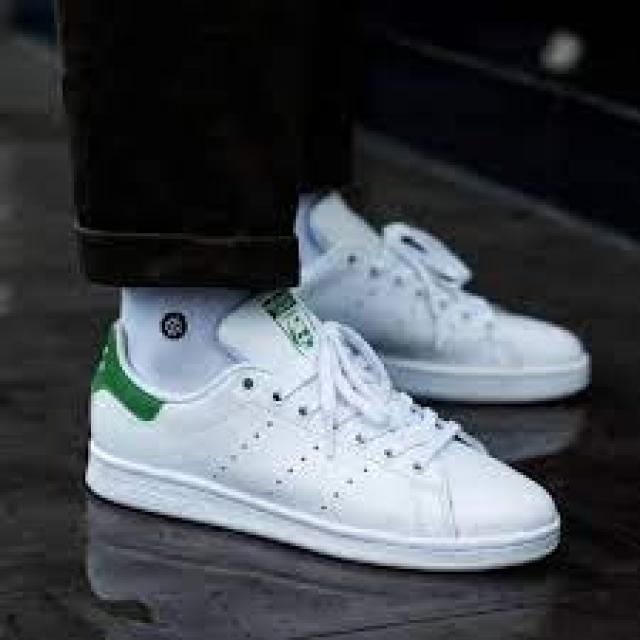shoe: (78, 284, 569, 572)
